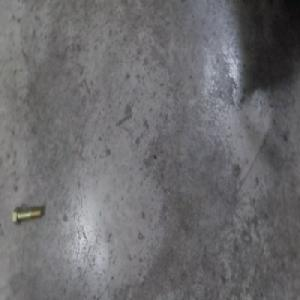Bolt: (15, 204, 44, 227)
